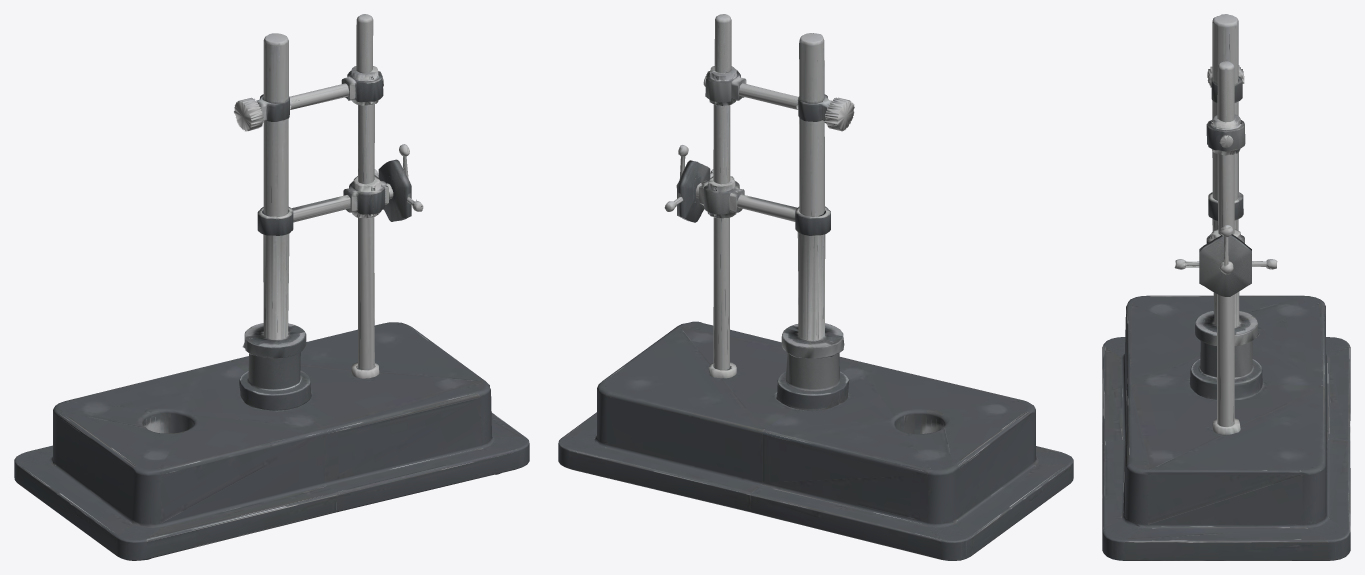
Rendered from lab-stand.glb.
3 views of the same model, side by side, from view 1: azimuth 30°, elevation 25°; view 2: azimuth 150°, elevation 25°; view 3: azimuth 270°, elevation 25° (orthographic). The views are drawn at different scales.
Bounding box in the file's own units: 0.9253 × 0.9517 × 0.4741.
Materials: 1 (1 with a texture image).
